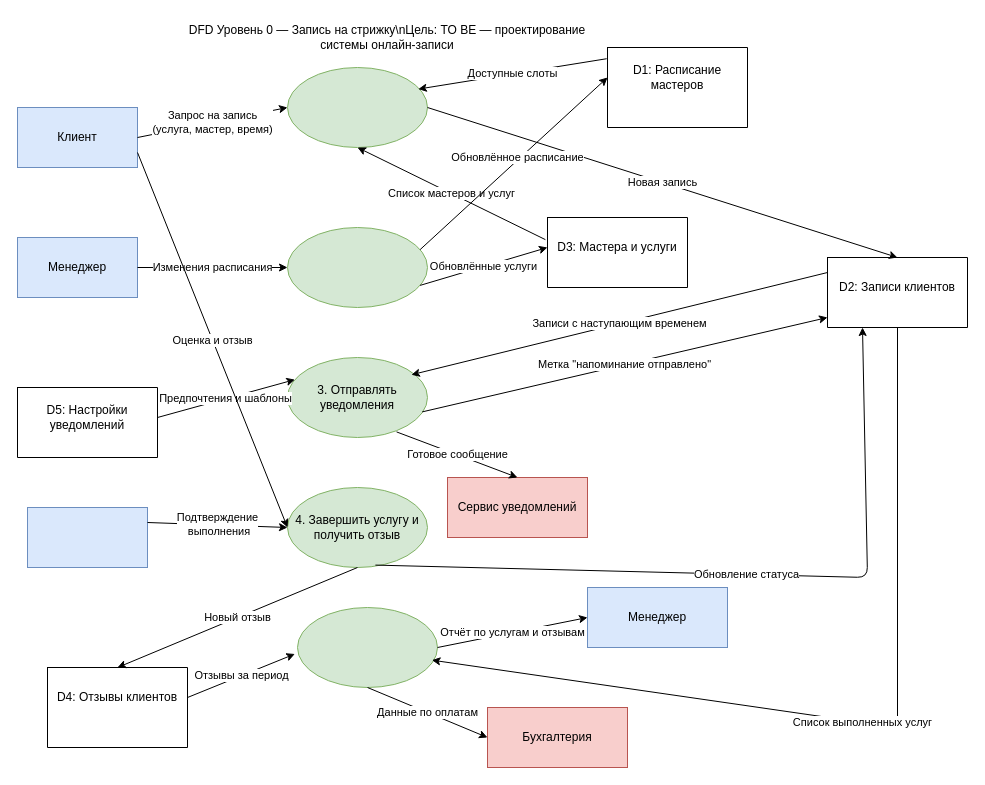
Some shapes in this 985 by 785 pixel diagram are drawn without their labels. Each missing label, with the centre of its shape:
"1. Записаться на услугу" belongs at point 357,107.
"2. Управлять расписанием" belongs at point 357,267.
"5. Формировать отчёты и данные для оплаты" belongs at point 367,647.
"Мастер" belongs at point 87,537.
